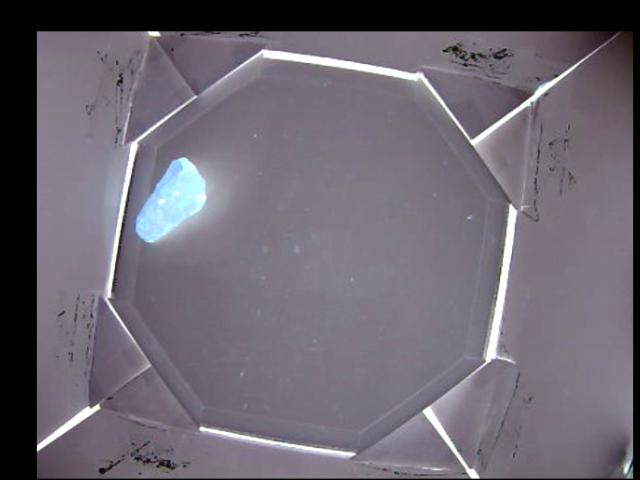Brisk: (133, 156, 207, 243)
